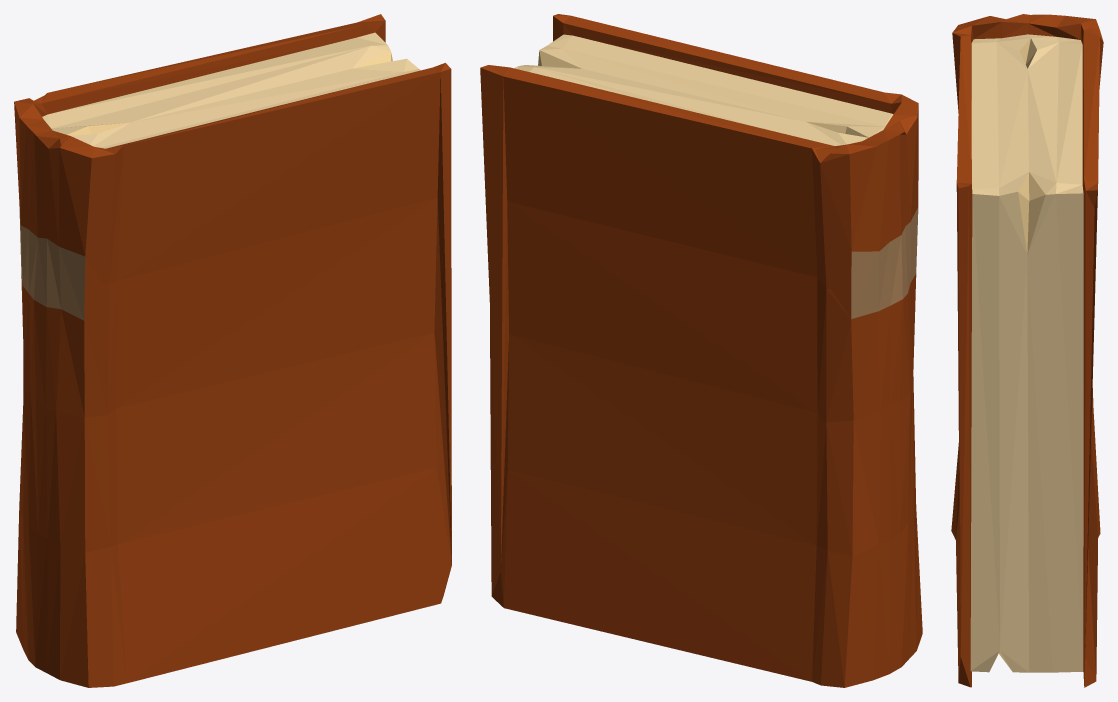
Rendered from AWS_Book_Orange_002.fbx.
3 renders of one model, left to right at view 1: azimuth 30°, elevation 25°; view 2: azimuth 150°, elevation 25°; view 3: azimuth 270°, elevation 25°, orthographic. The views are drawn at different scales.
Parts seen in each view (by area): view 1: AWS_Book_Orange_002; view 2: AWS_Book_Orange_002; view 3: AWS_Book_Orange_002.
Part boxes in pixels (x1,y1,x2,y2): AWS_Book_Orange_002: (14,14,451,687); AWS_Book_Orange_002: (480,14,922,687); AWS_Book_Orange_002: (951,14,1103,687).
Bounding box in the file's own units: 18.46 × 24.7 × 6.74.
